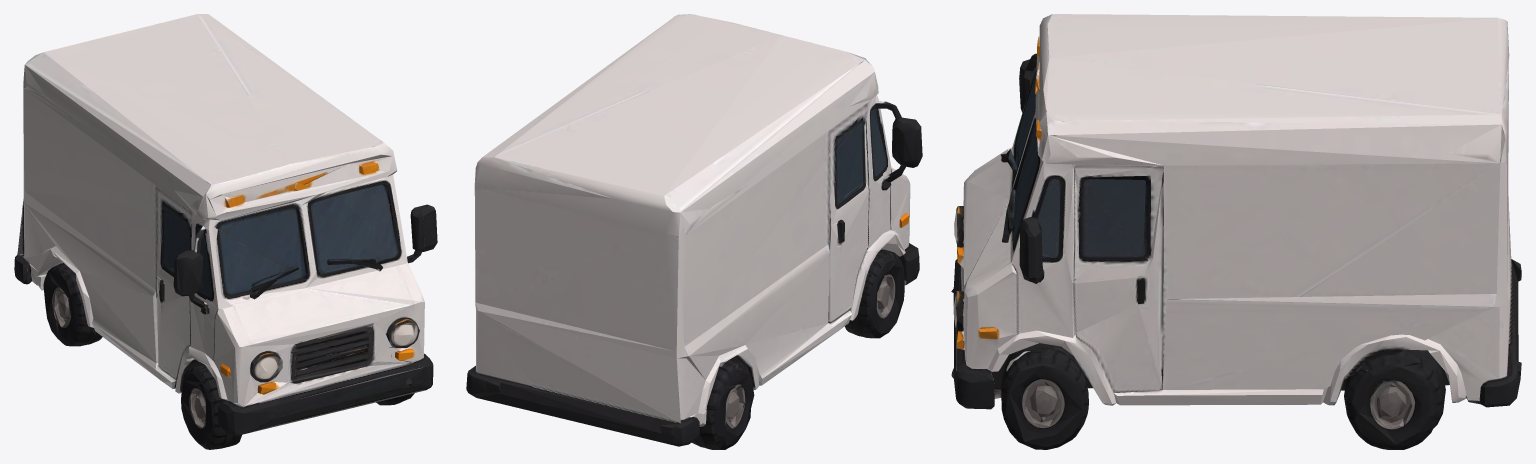
Rendered from van.glb.
The picture shows the model from 3 angles, left to right: view 1: azimuth 30°, elevation 25°; view 2: azimuth 150°, elevation 25°; view 3: azimuth 270°, elevation 25°; orthographic projection. The views are drawn at different scales.
Bounding box in the file's own units: 3.33 × 3.16 × 4.99.
1 material, 1 textured.
